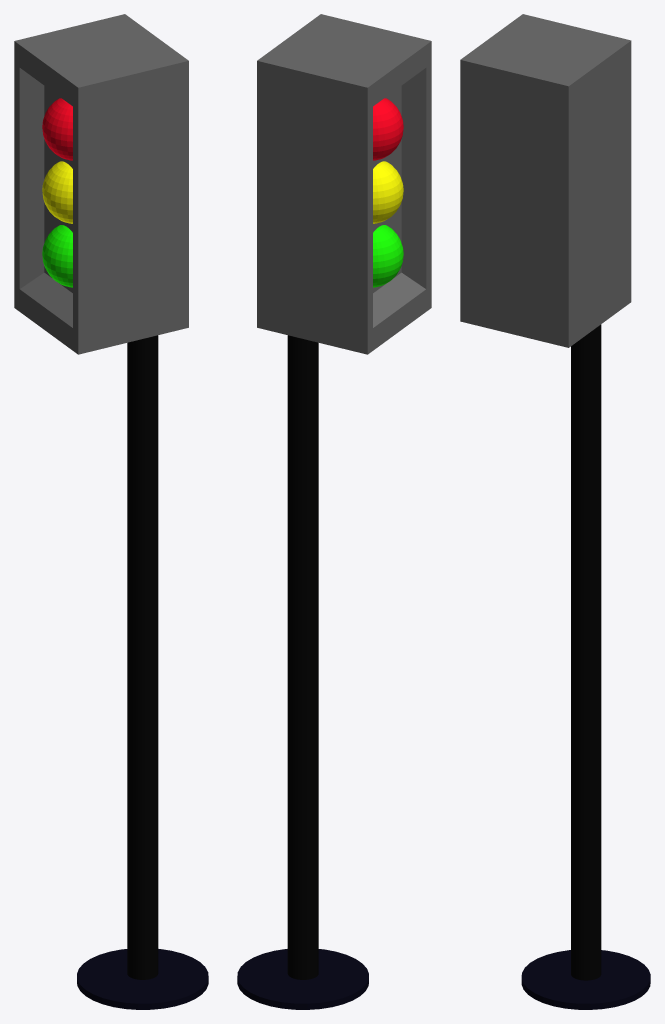
Rendered from TrafficSignal.fbx.
The picture shows the model from 3 angles, left to right: view 1: azimuth 30°, elevation 25°; view 2: azimuth 150°, elevation 25°; view 3: azimuth 330°, elevation 25°; orthographic projection. The views are drawn at different scales.
Visible parts, largest first — view 1: TrafficSignal, Rod, Base, Green, Yellow, Red; view 2: TrafficSignal, Rod, Base, Green, Yellow, Red; view 3: TrafficSignal, Rod, Base.
Part boxes in pixels (left/top/right/bottom): TrafficSignal: left=14, top=14, right=188, bottom=354; Rod: left=127, top=335, right=158, bottom=979; Base: left=77, top=949, right=208, bottom=1009; Green: left=42, top=225, right=72, bottom=287; Yellow: left=42, top=161, right=72, bottom=223; Red: left=42, top=98, right=72, bottom=160; TrafficSignal: left=257, top=14, right=431, bottom=354; Rod: left=287, top=335, right=318, bottom=979; Base: left=237, top=949, right=368, bottom=1009; Green: left=373, top=225, right=403, bottom=287; Yellow: left=373, top=161, right=403, bottom=223; Red: left=373, top=98, right=403, bottom=160; TrafficSignal: left=460, top=14, right=631, bottom=347; Rod: left=571, top=324, right=601, bottom=980; Base: left=521, top=950, right=650, bottom=1009.
Size of the model in its own units: 70.68 by 414 by 52.62.
